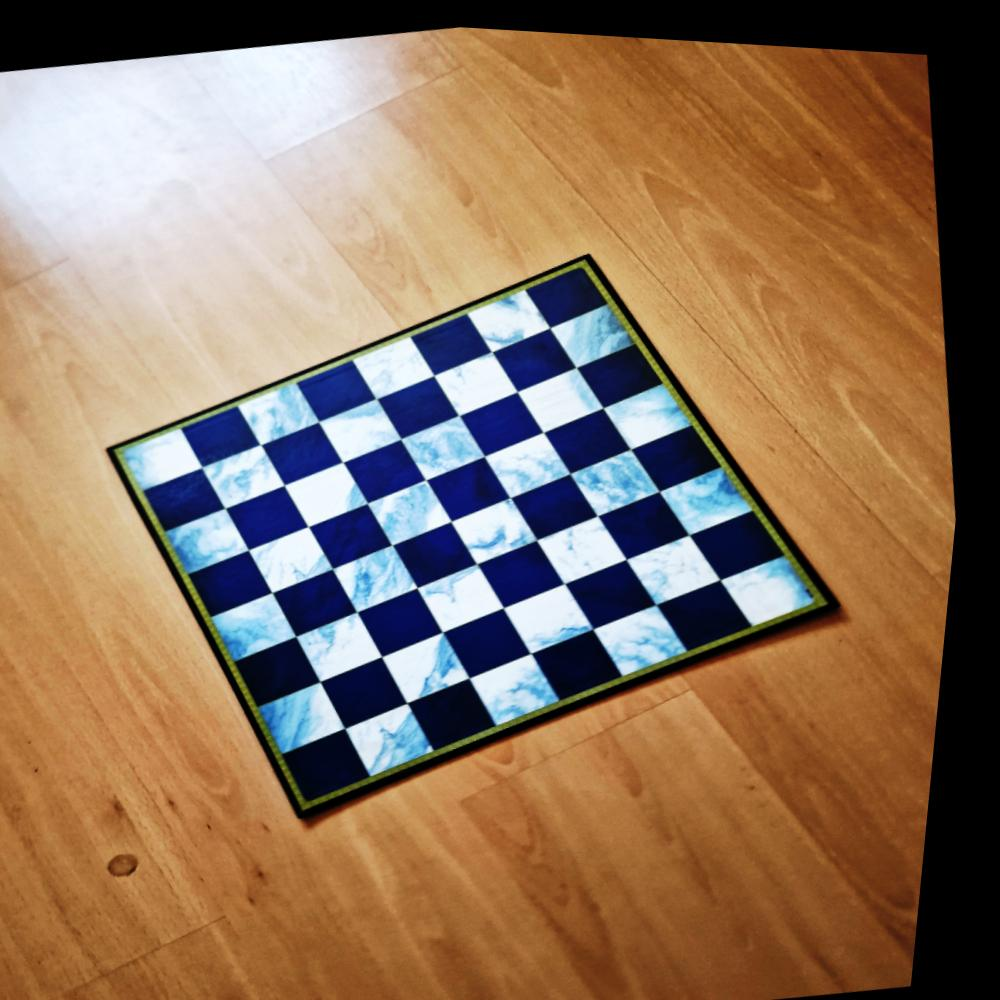chessfield: (725, 537, 845, 631), (107, 419, 223, 516), (593, 586, 709, 681), (472, 638, 583, 732), (113, 458, 233, 542), (353, 691, 462, 782), (659, 564, 767, 651), (503, 565, 611, 651), (625, 520, 734, 605), (662, 453, 772, 537), (386, 622, 491, 708), (260, 671, 364, 757), (541, 503, 647, 587), (536, 617, 639, 702), (299, 601, 402, 685), (419, 551, 522, 634), (416, 666, 517, 750), (692, 497, 796, 578), (483, 419, 585, 501), (572, 434, 675, 515), (570, 544, 672, 625), (606, 367, 708, 448), (233, 370, 335, 451), (326, 647, 425, 730), (450, 595, 550, 677), (336, 536, 437, 617), (238, 630, 339, 711), (600, 482, 702, 562), (513, 351, 615, 431), (455, 489, 557, 569), (213, 582, 314, 662), (462, 272, 563, 352), (482, 527, 581, 608), (292, 719, 391, 800), (633, 409, 732, 488), (548, 395, 648, 473), (364, 578, 461, 658), (435, 337, 533, 416), (514, 461, 613, 539), (319, 387, 418, 465), (401, 406, 500, 484), (274, 559, 370, 639), (252, 521, 349, 600), (397, 511, 494, 590), (369, 470, 467, 548), (552, 291, 649, 369), (521, 249, 617, 327), (208, 436, 303, 514), (461, 378, 557, 455), (281, 452, 378, 528), (352, 322, 446, 400), (434, 445, 529, 521), (229, 475, 324, 551), (310, 495, 406, 570), (295, 344, 388, 421), (180, 395, 274, 471), (347, 430, 439, 507), (167, 499, 260, 575), (494, 315, 588, 390), (377, 365, 470, 440), (409, 302, 502, 377), (578, 334, 672, 408), (263, 415, 355, 490), (198, 544, 289, 618)
